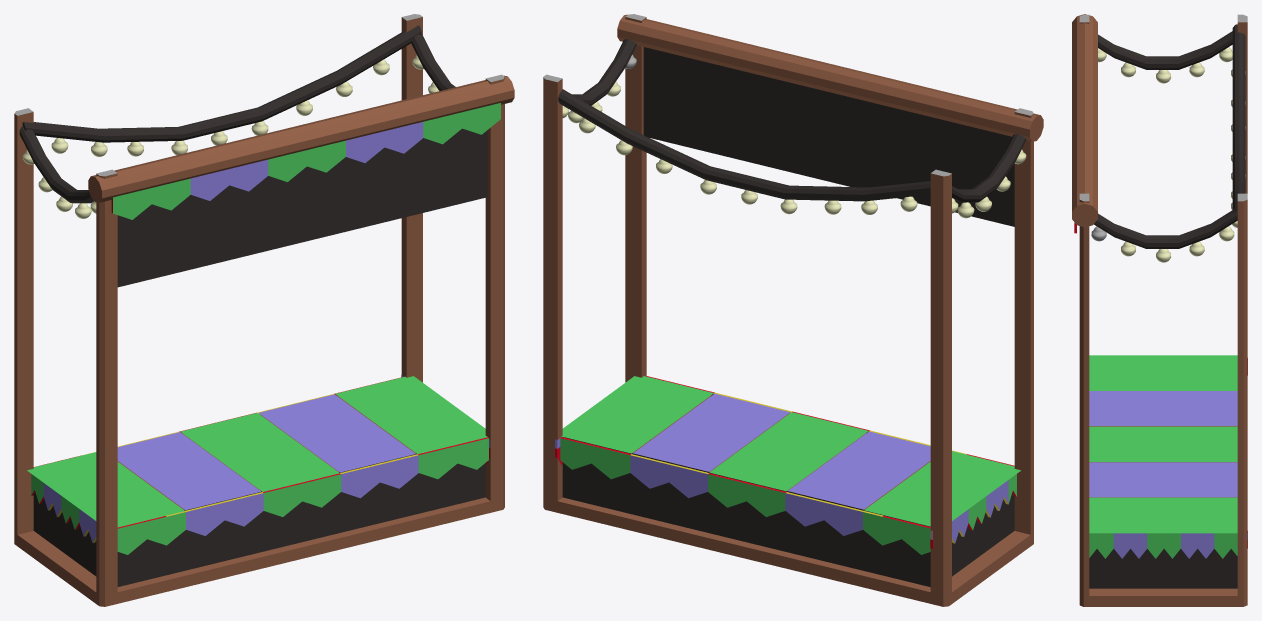
Rendered from booth3.fbx.
The picture shows the model from 3 angles, left to right: view 1: azimuth 30°, elevation 25°; view 2: azimuth 150°, elevation 25°; view 3: azimuth 270°, elevation 25°; orthographic projection. The views are drawn at different scales.
Parts seen in each view (by area): view 1: Booth:pPlane16; view 2: Booth:pPlane16; view 3: Booth:pPlane16.
Part boxes in pixels (x1,y1,x2,y2): Booth:pPlane16: [14, 14, 514, 606]; Booth:pPlane16: [543, 14, 1043, 606]; Booth:pPlane16: [1072, 14, 1247, 606].
Size of the model in its own units: 24.34 by 24.26 by 9.53.
